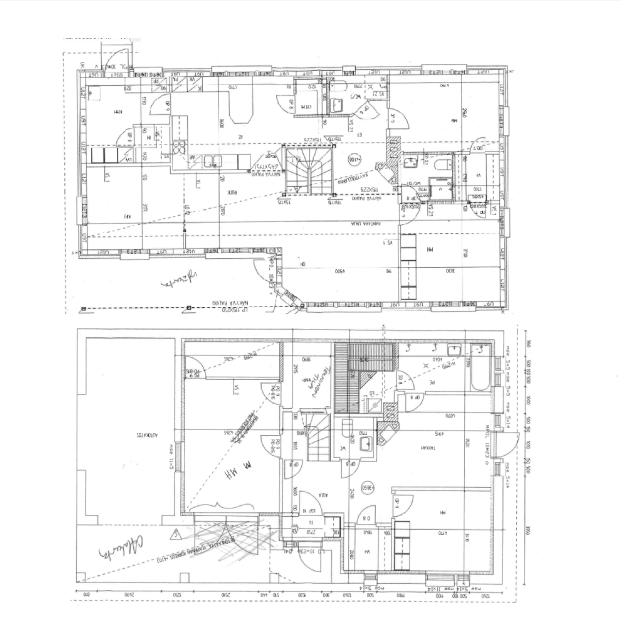door: (297, 539, 323, 574), (296, 489, 324, 517), (104, 48, 130, 76), (494, 430, 520, 458), (391, 491, 415, 519), (147, 91, 171, 118), (387, 106, 412, 130), (259, 380, 282, 405), (355, 503, 378, 527), (259, 434, 283, 457), (185, 355, 208, 377), (274, 94, 296, 115), (400, 202, 421, 224), (253, 258, 273, 281), (406, 391, 426, 412), (116, 126, 134, 148), (396, 370, 415, 390), (467, 136, 487, 154), (344, 458, 360, 477), (288, 460, 304, 478), (470, 200, 486, 218), (342, 63, 357, 77)
window: (100, 515, 162, 530), (172, 438, 188, 476), (280, 289, 296, 311), (287, 292, 303, 311), (362, 570, 378, 588), (342, 63, 357, 76)
zone: (382, 397, 492, 488), (168, 77, 282, 161), (393, 490, 493, 578), (401, 202, 504, 283), (79, 161, 144, 250), (391, 79, 462, 146), (388, 393, 490, 438), (80, 80, 148, 146), (396, 343, 479, 392), (189, 342, 282, 380), (284, 342, 332, 412), (461, 75, 504, 146), (292, 461, 349, 513), (327, 80, 389, 117), (345, 526, 392, 573), (458, 152, 500, 203), (330, 416, 376, 462), (400, 152, 454, 187), (281, 514, 339, 544), (136, 122, 172, 160), (294, 78, 328, 118), (361, 370, 395, 410), (469, 351, 493, 393), (283, 426, 307, 464), (300, 409, 330, 429), (430, 178, 454, 201)
